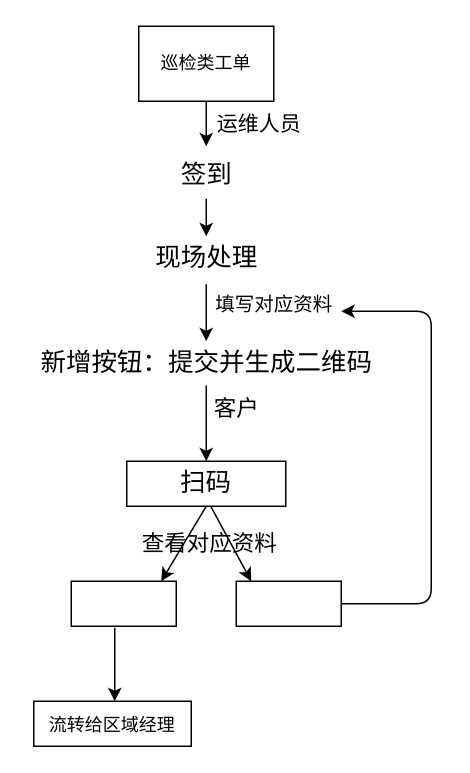
The diagram is 470 pixels wide and 773 high, and some of its shapes have lost their labels. Here are the shapes that lost their labels. From the top down, the centre of each, then its label:
At pixel 123 603: "确认".
At pixel 288 603: "否认".
